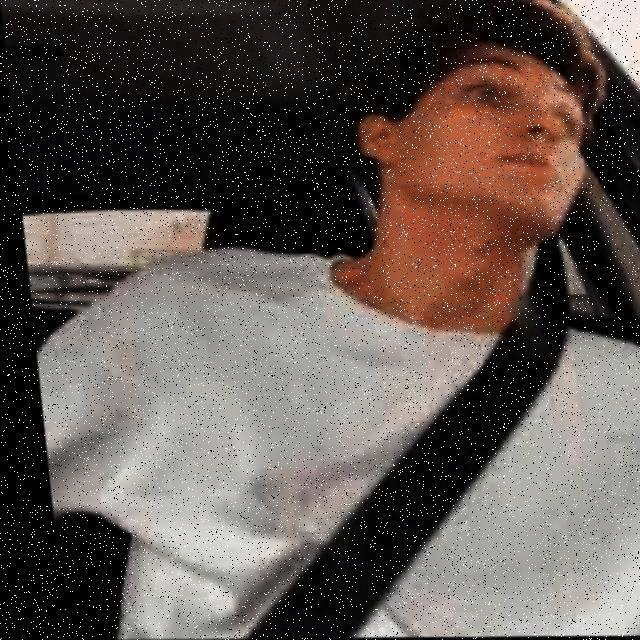seatbelt: (72, 244, 640, 637)
